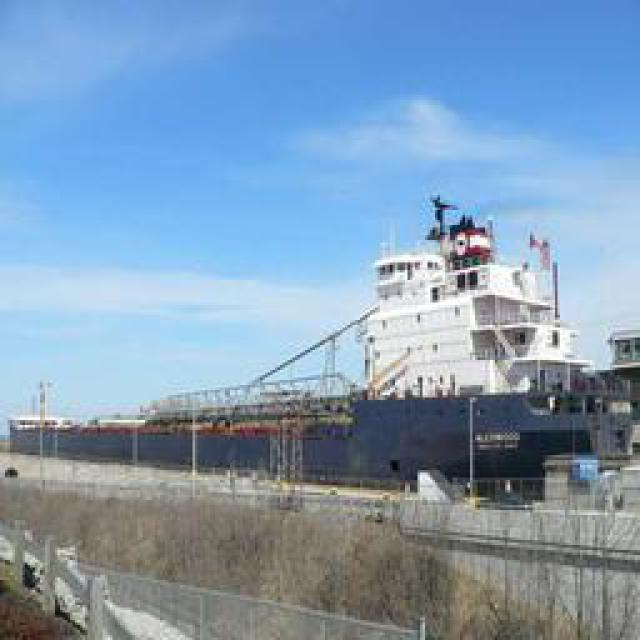Ship: (7, 202, 619, 490)
